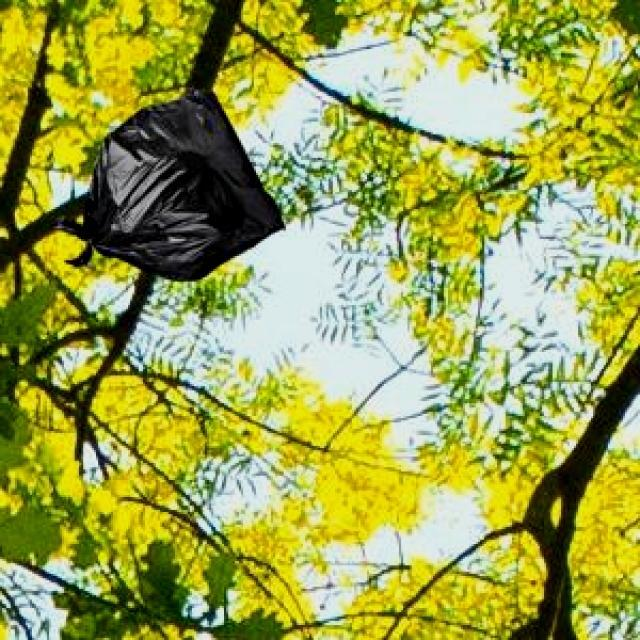Trashbag: (39, 73, 297, 290)
